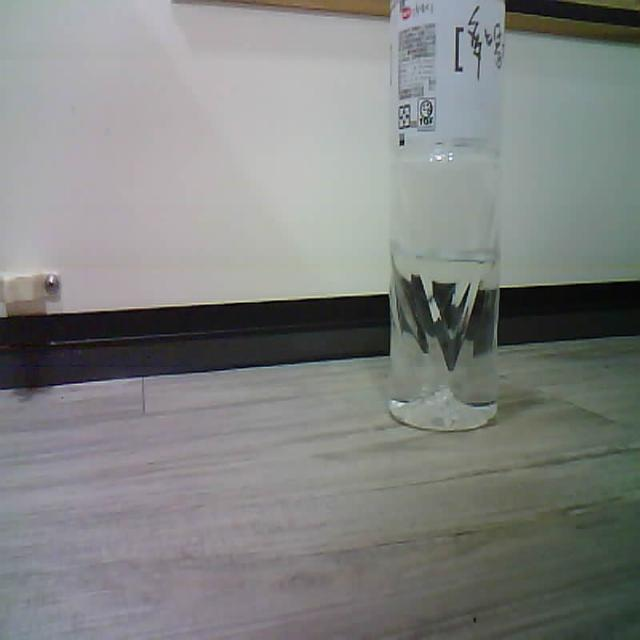bottle: (389, 1, 505, 430)
